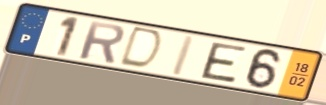1: (56, 15, 82, 59)
6: (244, 47, 285, 91)
D: (116, 25, 166, 72)
E: (199, 41, 249, 85)
I: (167, 33, 198, 78)
R: (77, 19, 127, 65)
